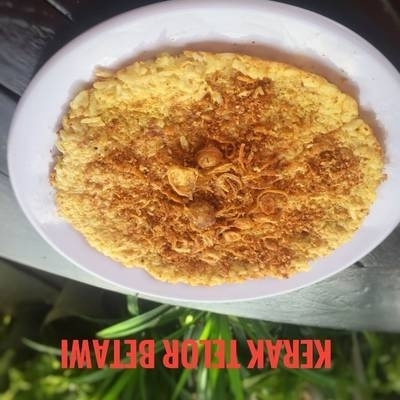kerak_telor: (49, 49, 388, 286)
